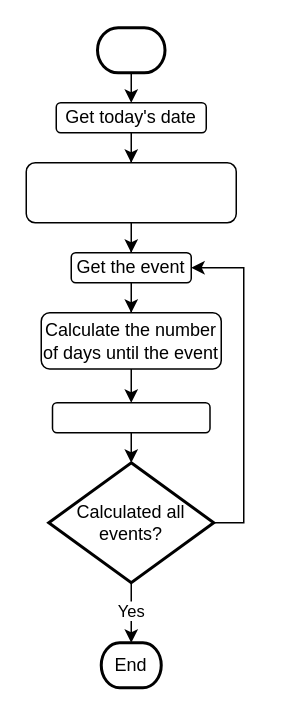
This 282x714 diagram has some shape labels left out. The shapes that lost their labels are listed below. From the top down, each one's centre as x and y in pixels, then its label:
point (130, 50): Start
point (130, 192): Get the list of important events from the text file
point (130, 417): Display the result
